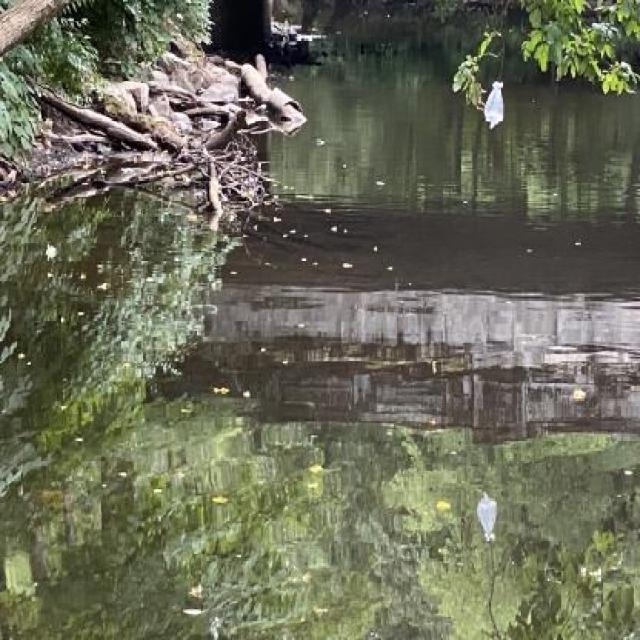Plastic: (472, 480, 500, 545)
